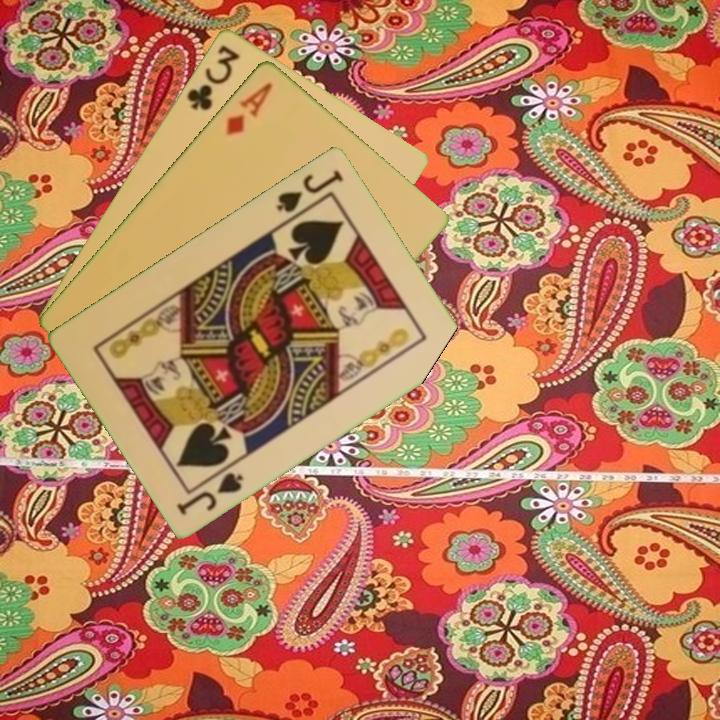3c: (182, 41, 243, 113)
Ad: (222, 78, 276, 138)
Js: (173, 467, 246, 518), (272, 165, 346, 215)
